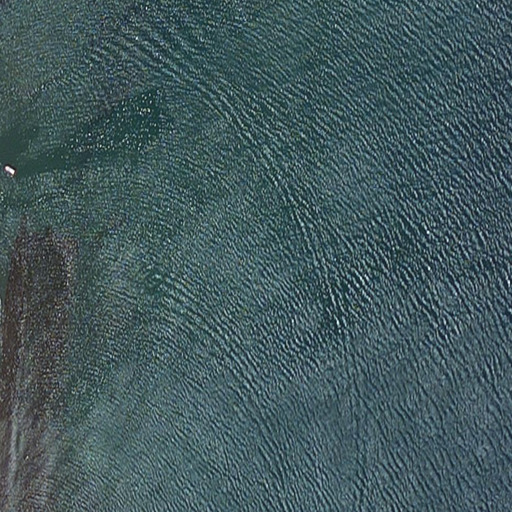ship: (3, 164, 17, 178)
